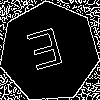E: (24, 27, 69, 80)
